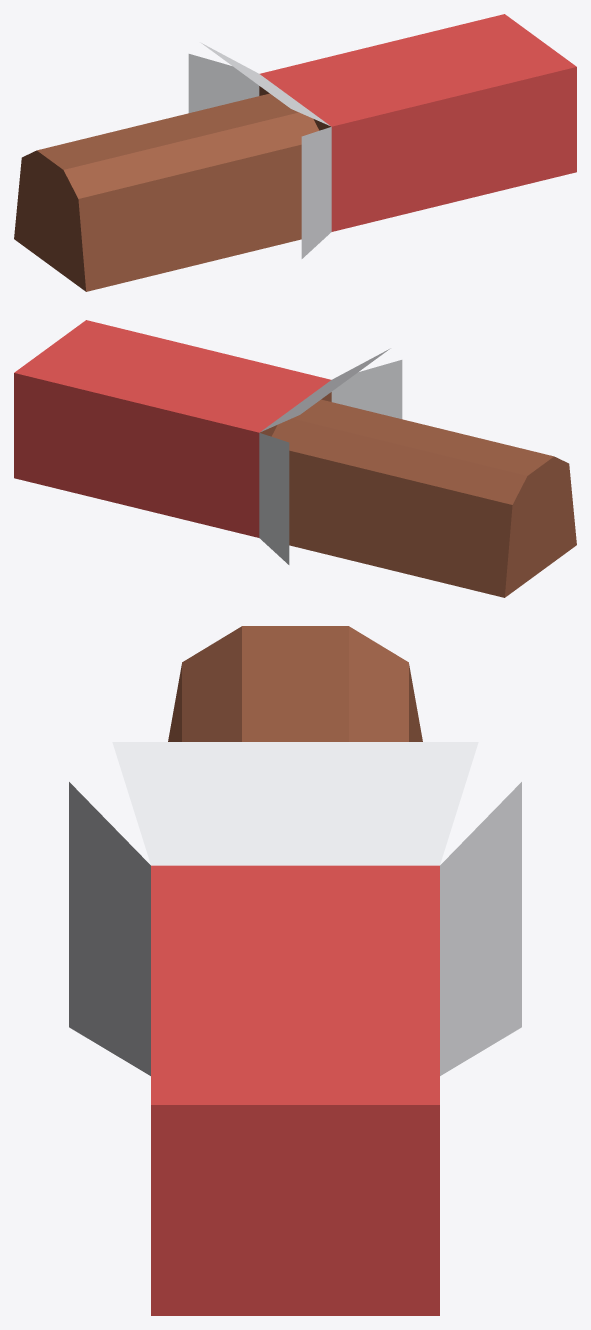
Rendered from candyBarWrapper.obj.
3 views of the same model, one above another, from view 1: azimuth 30°, elevation 25°; view 2: azimuth 150°, elevation 25°; view 3: azimuth 270°, elevation 25° (orthographic). The views are drawn at different scales.
Visible parts, largest first — view 1: candyBarWrapper; view 2: candyBarWrapper; view 3: candyBarWrapper.
Part boxes in pixels (x1,y1,x2,y2): candyBarWrapper: [14, 14, 576, 291]; candyBarWrapper: [14, 320, 576, 597]; candyBarWrapper: [69, 626, 521, 1315].
Bounding box in the file's own units: 0.2924 × 0.0812 × 0.1169.
